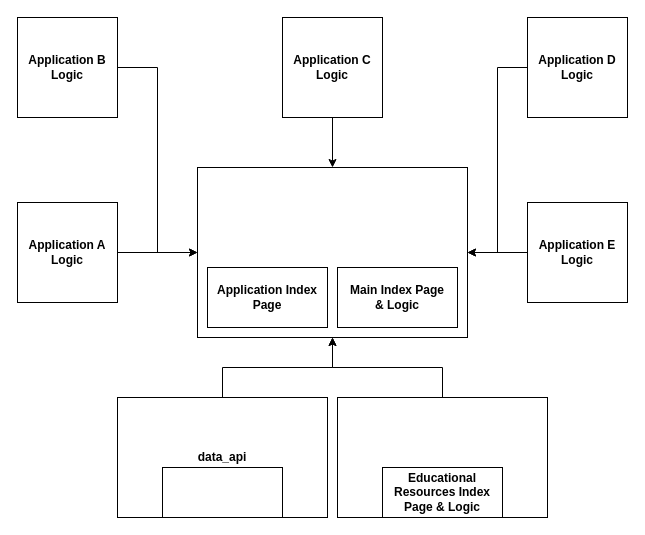
The diagram is 645 pixels wide and 535 high, and some of its shapes have lost their labels. Each missing label, with the box of its shape:
Data API Index Page & Logic: (162, 466, 282, 518)
education_resources: (336, 396, 548, 518)
web_core: (196, 166, 468, 338)
